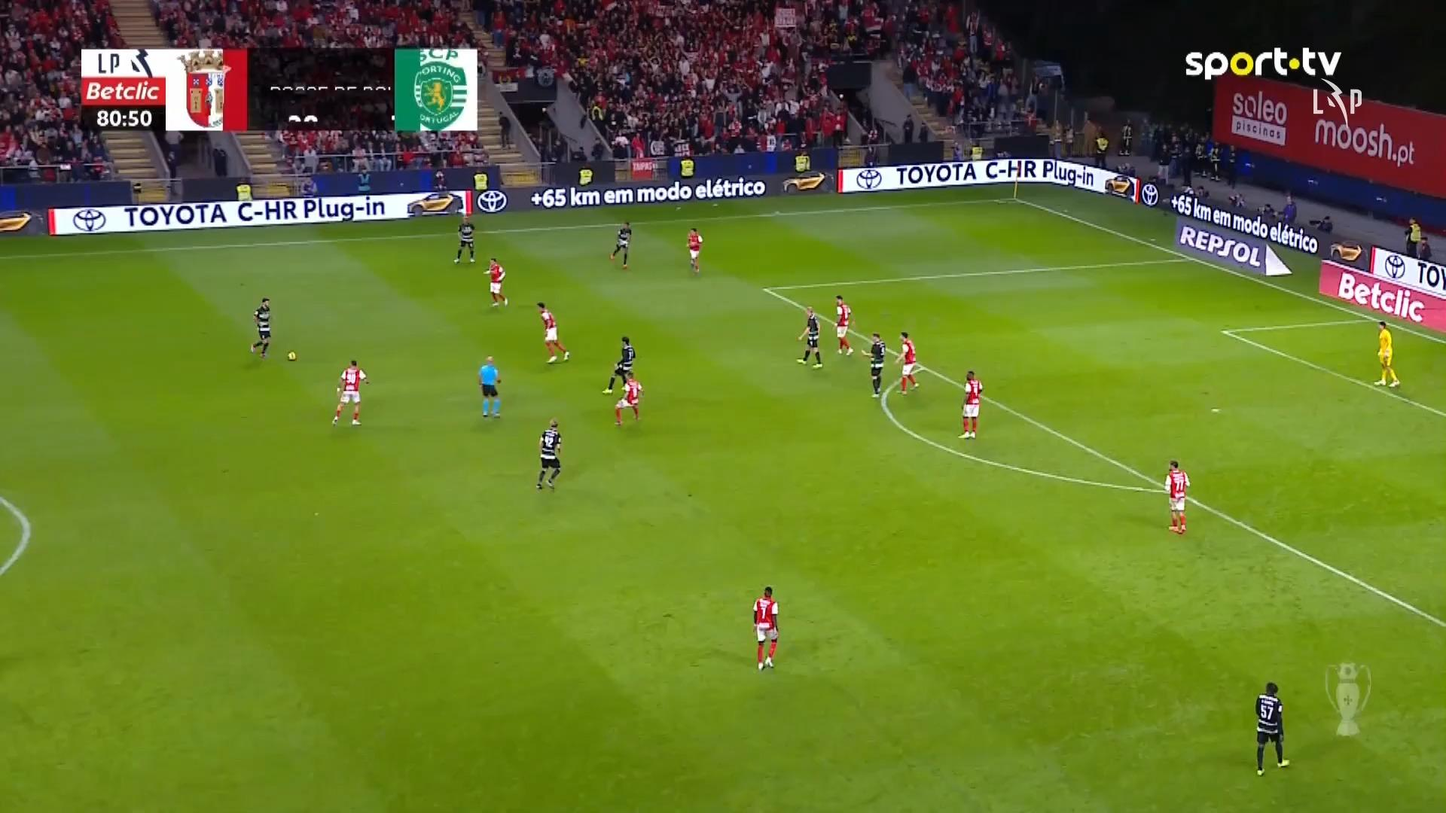ball: (767, 629, 777, 640), (287, 351, 296, 361)
goalkeeper: (1373, 320, 1399, 387)
player: (1254, 681, 1289, 775), (331, 358, 370, 426), (752, 585, 779, 671), (536, 301, 570, 364), (602, 335, 636, 394), (535, 419, 562, 490), (1164, 459, 1189, 534), (957, 370, 983, 439), (860, 332, 886, 397), (613, 370, 643, 426), (893, 330, 919, 394), (796, 306, 822, 368), (249, 297, 272, 358), (833, 294, 854, 355), (483, 257, 508, 307), (609, 220, 632, 269), (453, 215, 476, 263), (685, 227, 703, 274)
referee: (477, 355, 502, 418)
